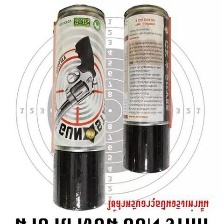aerosol_cans: (48, 2, 108, 212), (118, 2, 173, 174)
